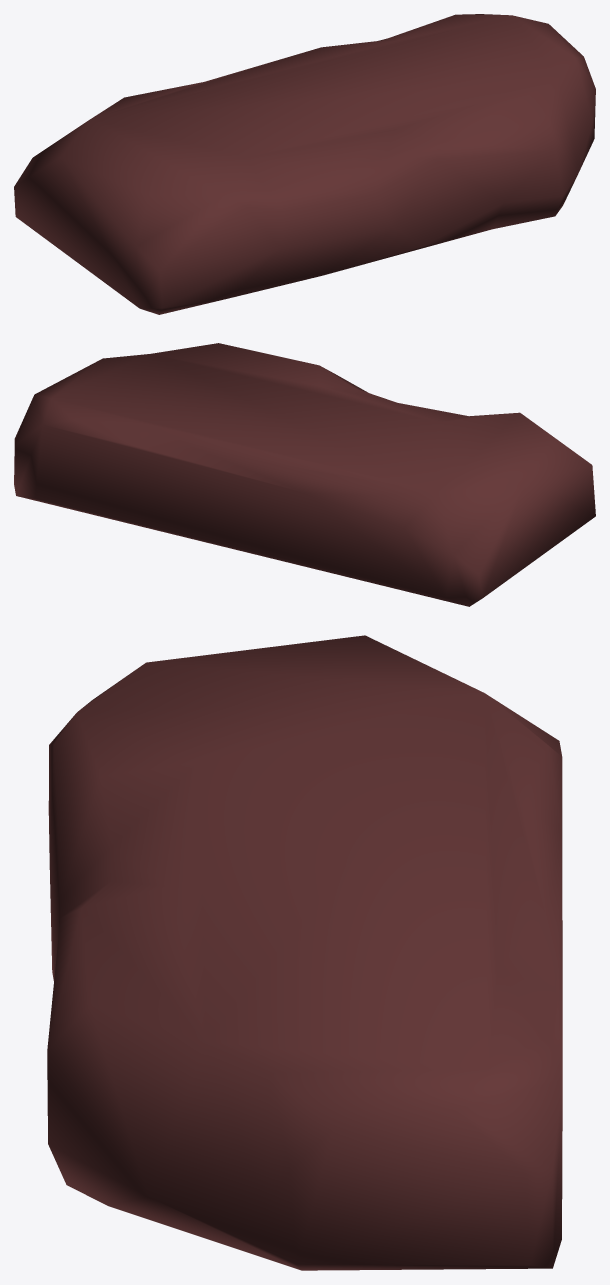
The model's file is SM_large_brick_03.fbx.
The picture shows the model from 3 angles, top to bottom: view 1: azimuth 30°, elevation 25°; view 2: azimuth 150°, elevation 25°; view 3: azimuth 270°, elevation 25°; orthographic projection. The views are drawn at different scales.
Parts seen in each view (by area): view 1: large_brick_03; view 2: large_brick_03; view 3: large_brick_03.
Part boxes in pixels (box(x1,y1,x2,y2)): large_brick_03: box(14, 14, 595, 314); large_brick_03: box(14, 343, 595, 606); large_brick_03: box(47, 635, 562, 1270).
Size of the model in its own units: 115 by 21.81 by 54.74.
